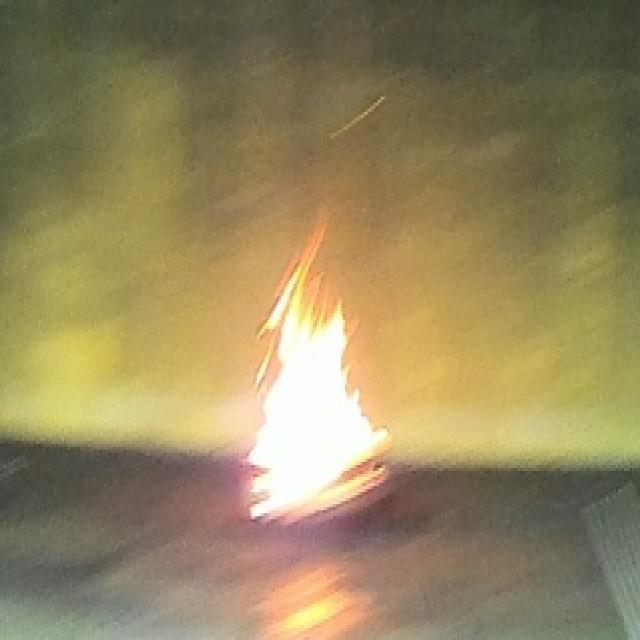Fire: (246, 212, 390, 530)
